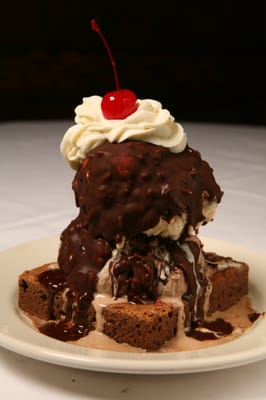sushi: (17, 93, 254, 351)
